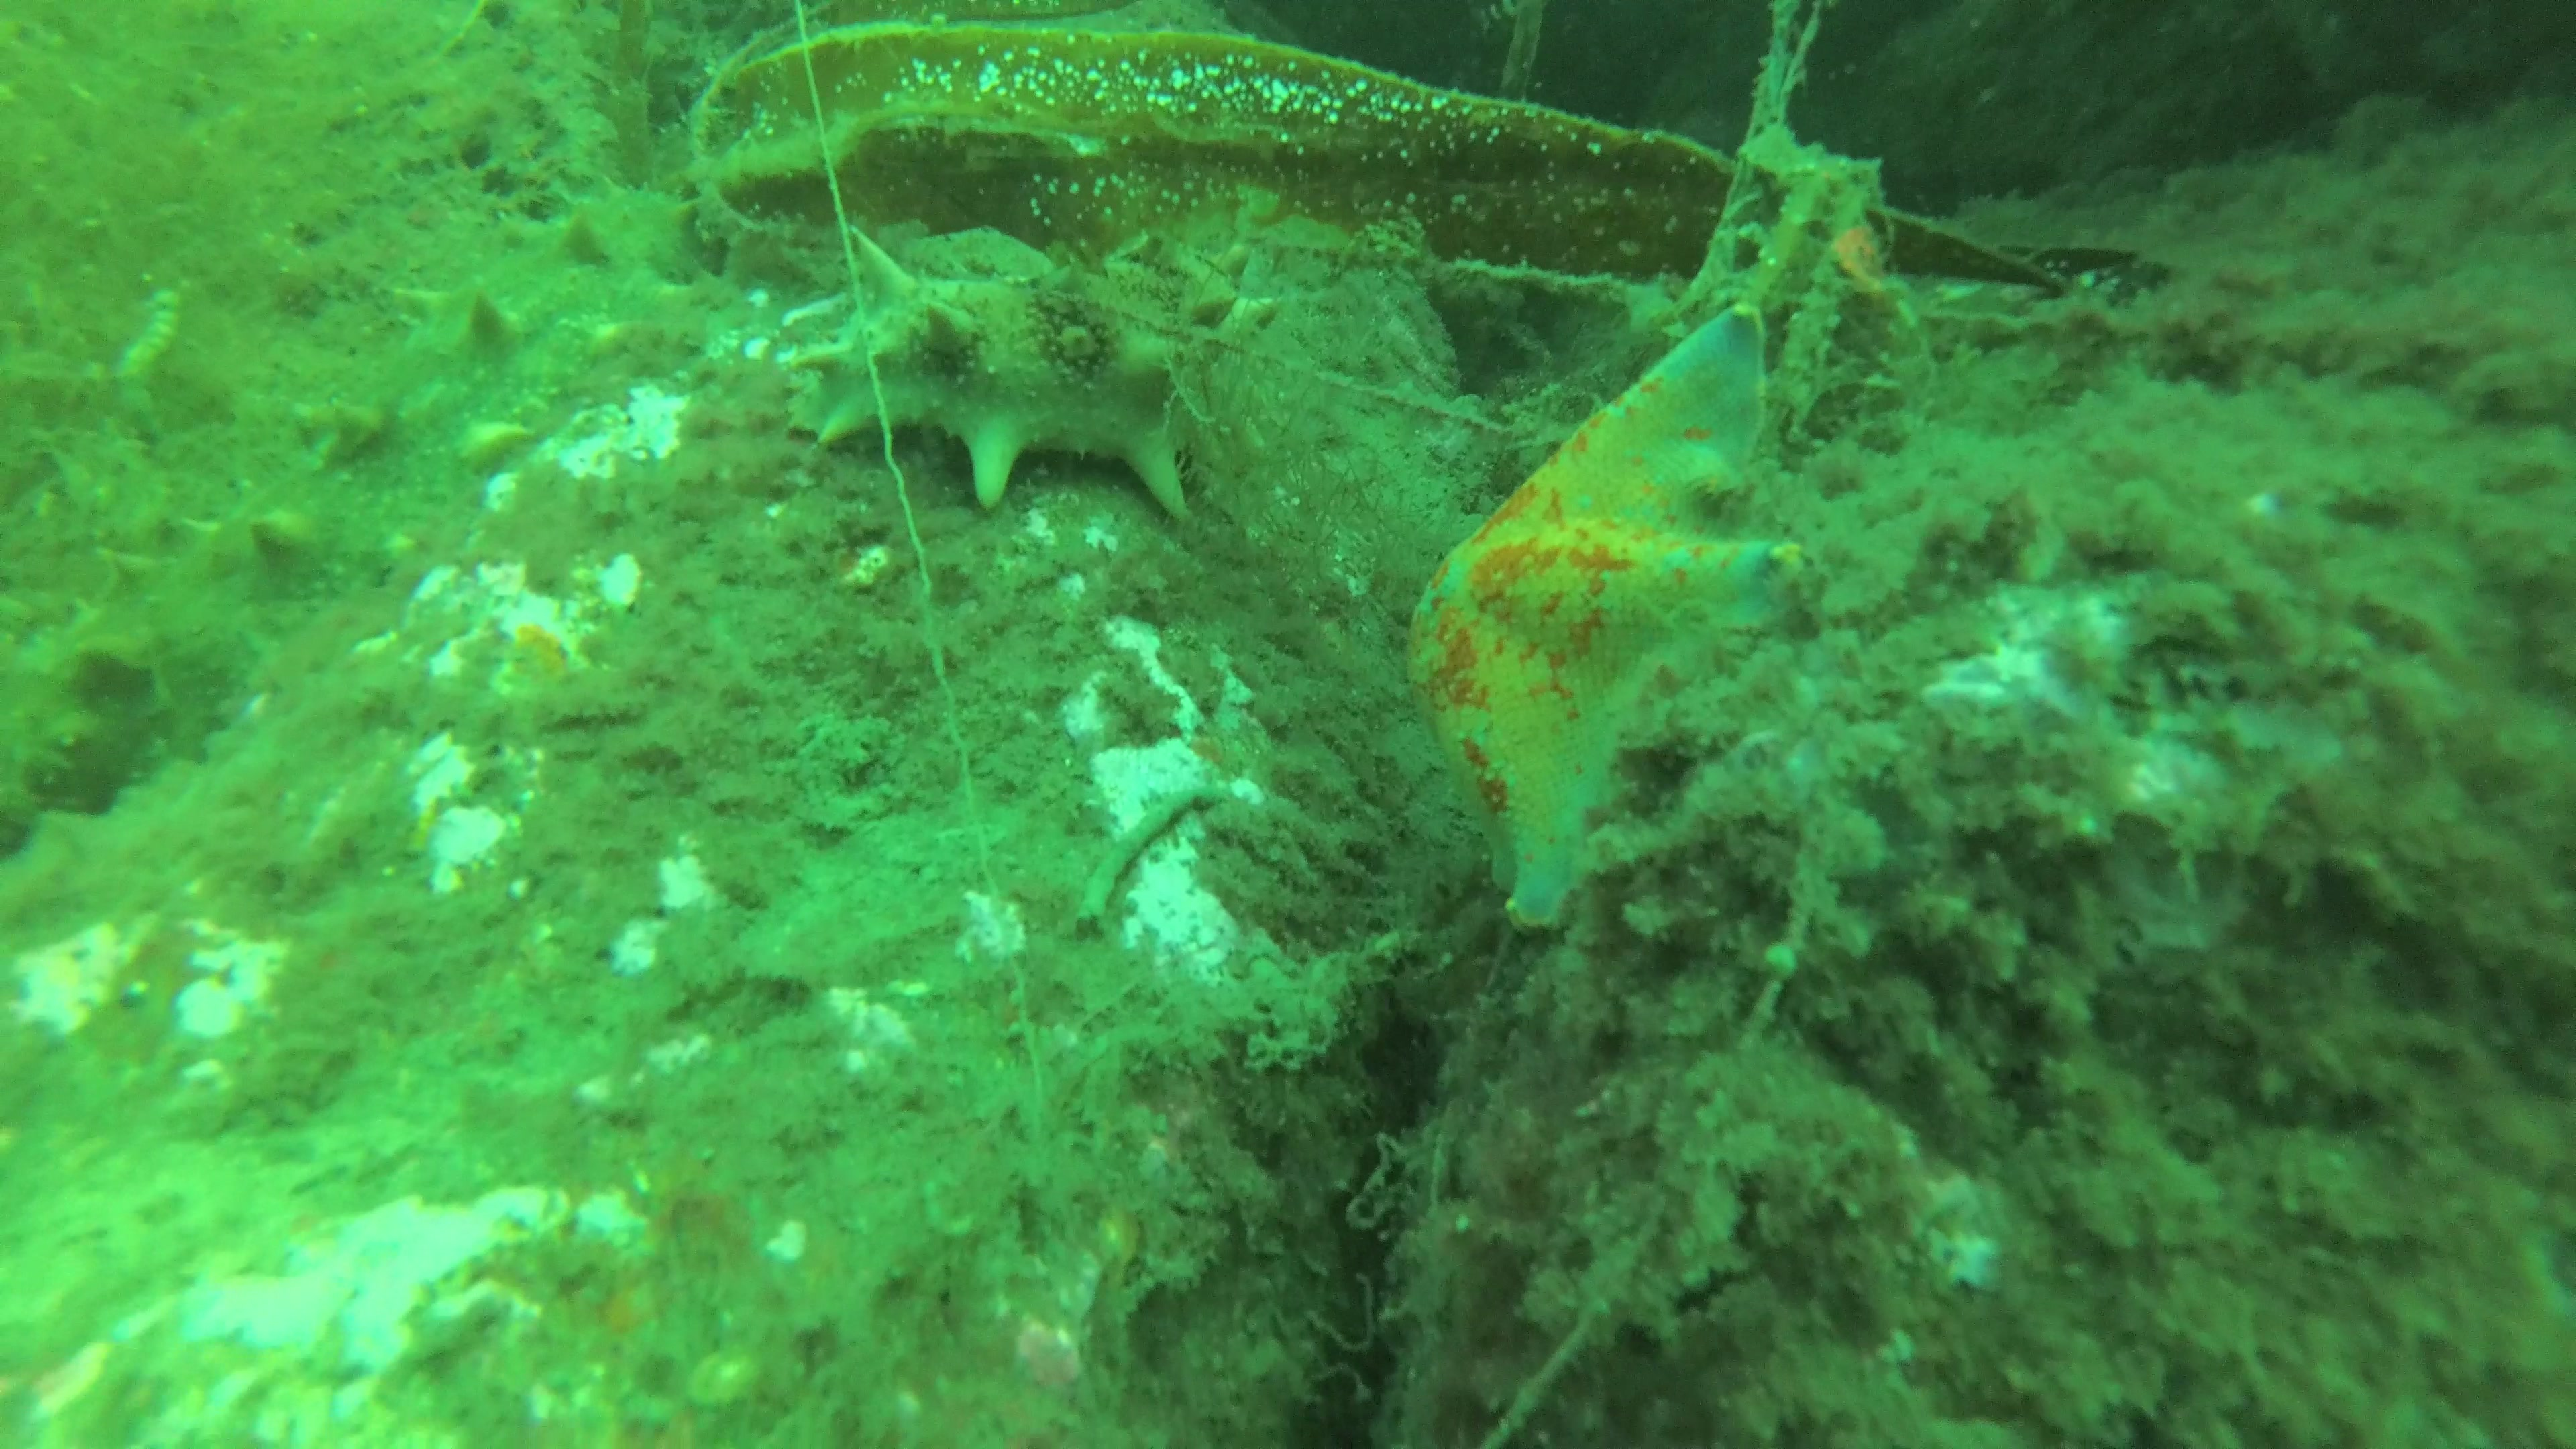holothurian: (0, 168, 711, 856), (791, 226, 1284, 518)
starfish: (1399, 301, 1803, 932)
